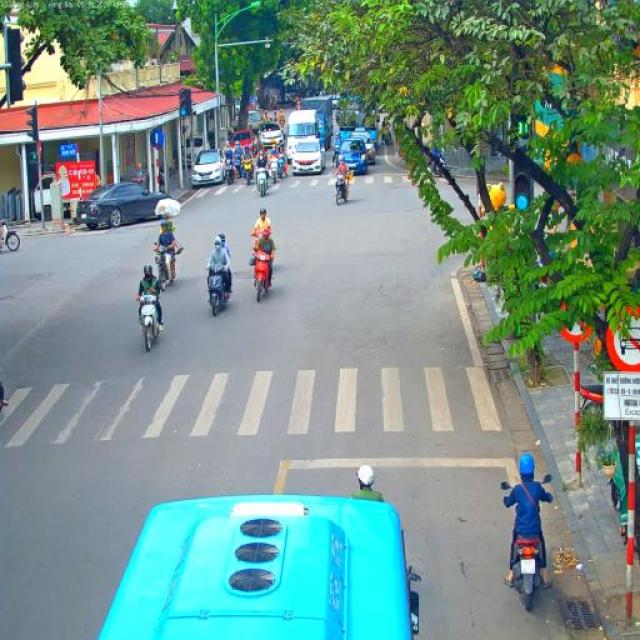bus: (97, 492, 422, 640), (338, 108, 378, 137)
car: (76, 181, 178, 230), (288, 136, 328, 176), (342, 126, 377, 166), (336, 136, 370, 176), (190, 148, 224, 186), (260, 120, 284, 152), (232, 129, 258, 155)
motorcycle: (499, 474, 553, 611), (136, 292, 162, 352), (206, 267, 232, 317), (251, 250, 273, 302), (151, 245, 175, 291), (580, 382, 606, 418), (333, 170, 352, 205), (252, 165, 272, 197), (0, 220, 20, 251), (270, 154, 284, 186), (431, 153, 448, 178), (240, 157, 254, 185), (223, 158, 237, 184), (331, 144, 340, 167)
truck: (27, 165, 78, 220), (286, 109, 326, 159), (302, 95, 333, 145), (247, 111, 262, 133)
